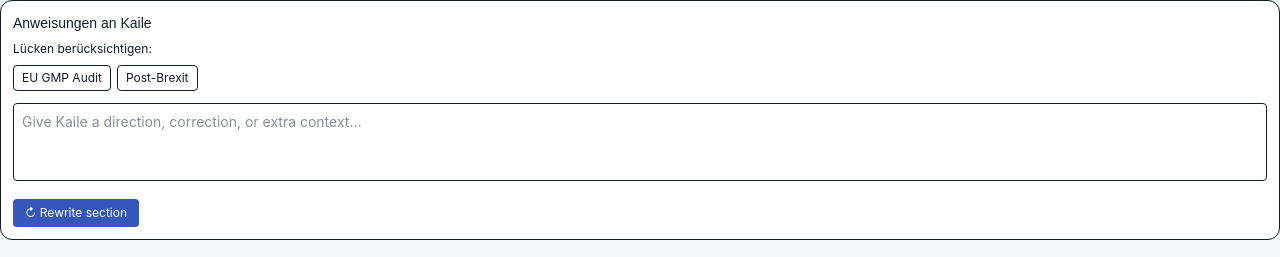
Scenario: KaileChat › shows Apply, Edit first, and Discard buttons after suggestion
Click the button with test id "kaile-rewrite-btn": (76, 213) [13,199,139,227]
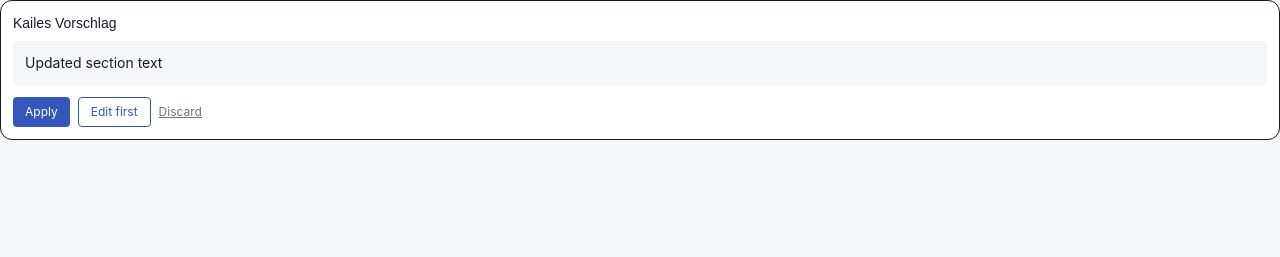
Expected: the text "Updated section text" is shown, [13,41,1267,85]
Expected: the button with test id "apply-suggestion-btn" is shown, [13,97,70,127]
Expected: the button with test id "edit-first-btn" is shown, [78,97,151,127]
